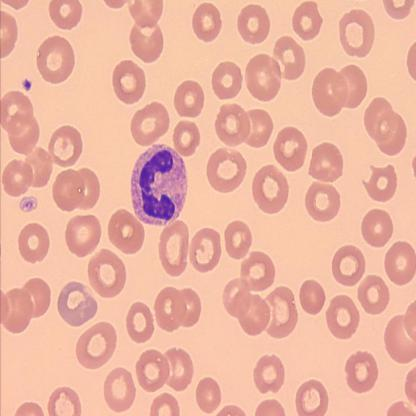Band Neutrophil: (129, 141, 190, 228)
